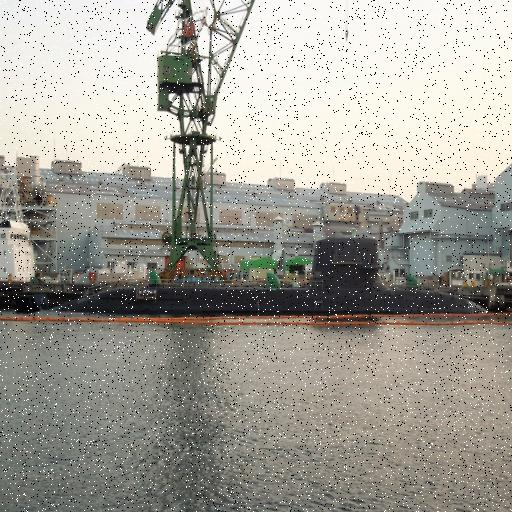submarine: (34, 230, 512, 325)
